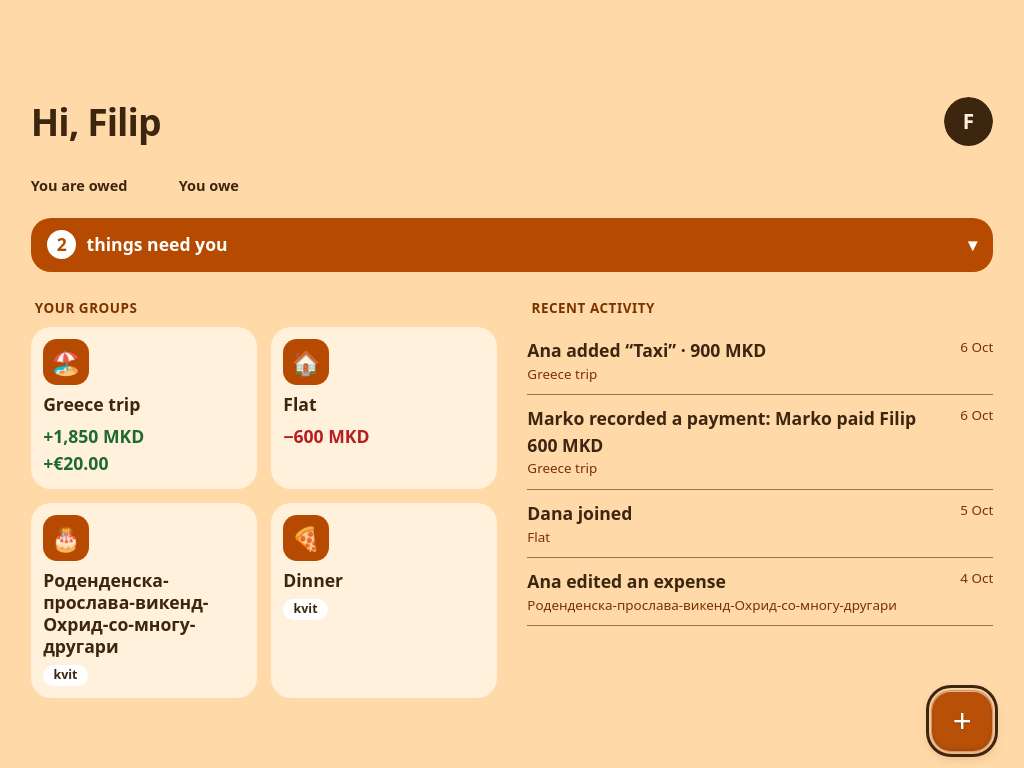
Scenario: personal spending from the home screen › focuses the amount after "+ New" saves a category, so typed digits land in it
The image size is (1024, 768).
Click the button named "Add" at (962, 721), box [931, 690, 993, 752]
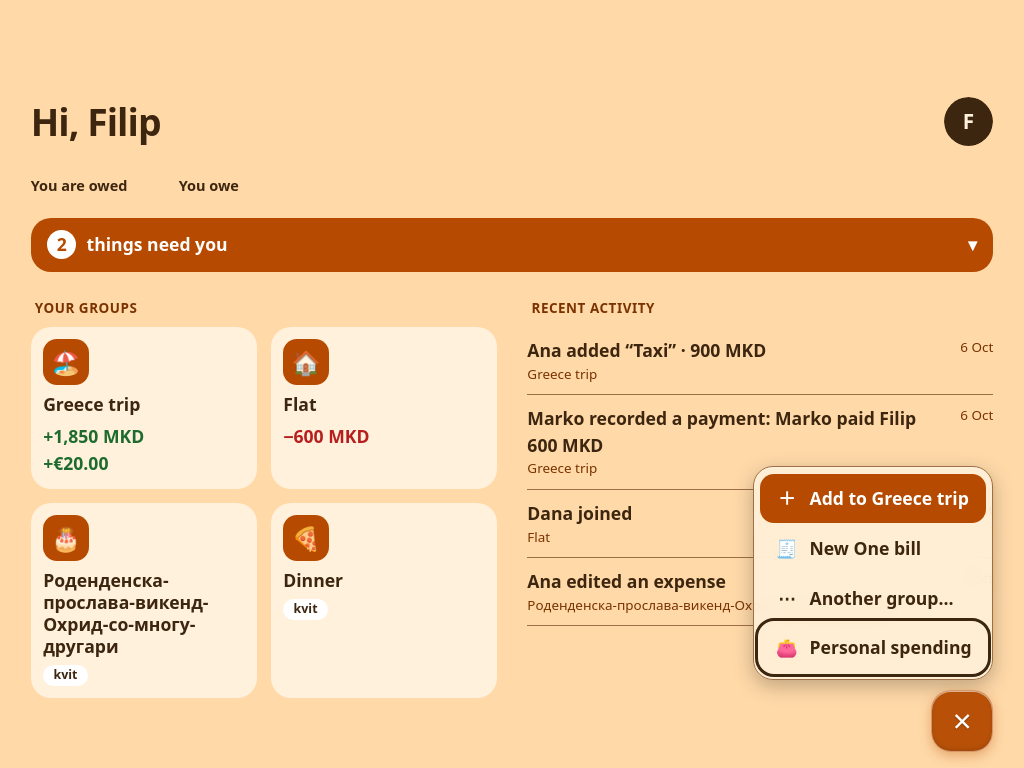
Click the menu item "👛 Personal spending" at (873, 648), box [760, 623, 986, 672]
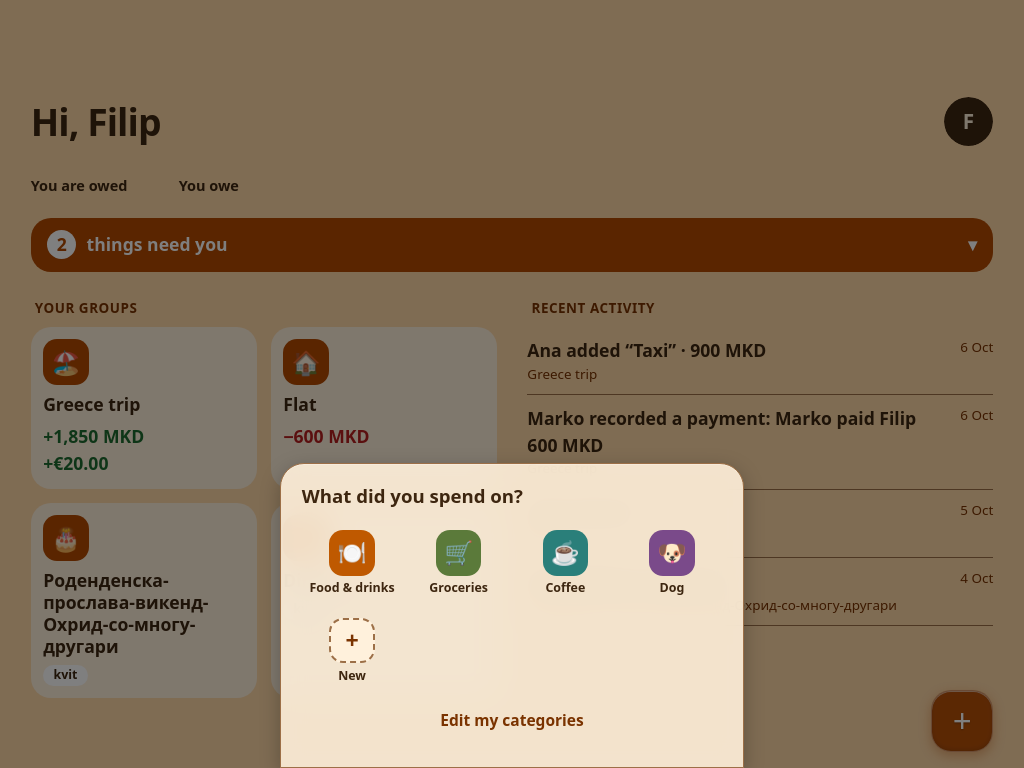
Click the button "+ New" at (352, 650), box [302, 612, 402, 689]
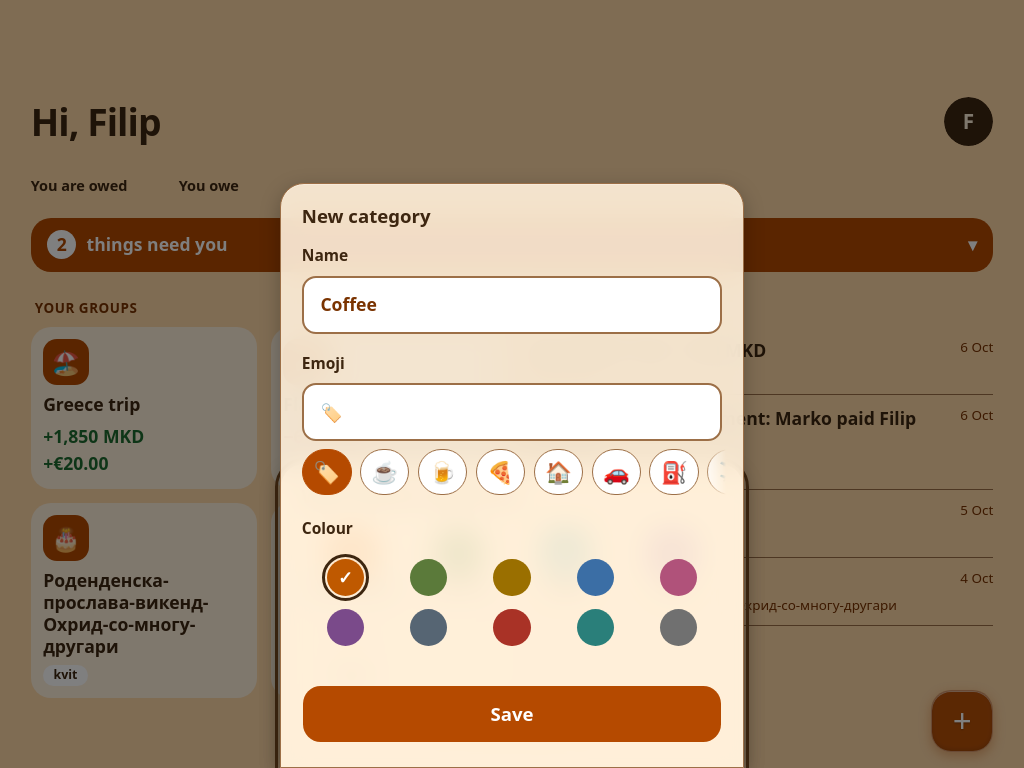
Type "Tea" into the field labelled "Name" at (512, 305), box [302, 276, 722, 334]
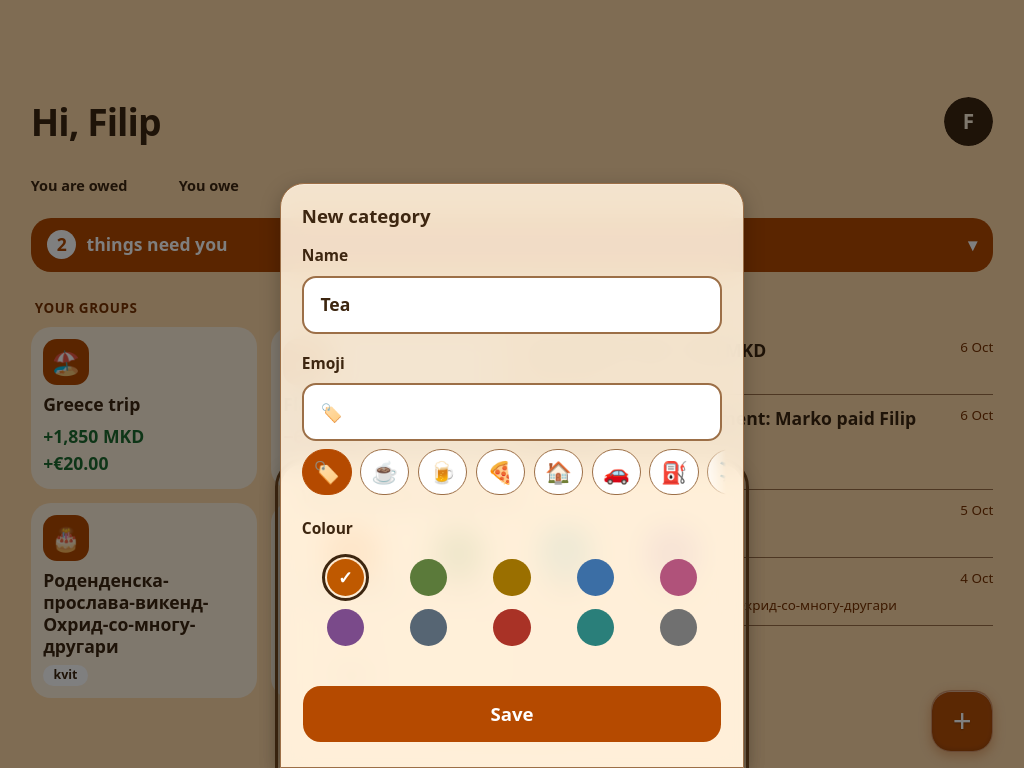
Click the button "Save" at (512, 714), box [302, 685, 722, 743]
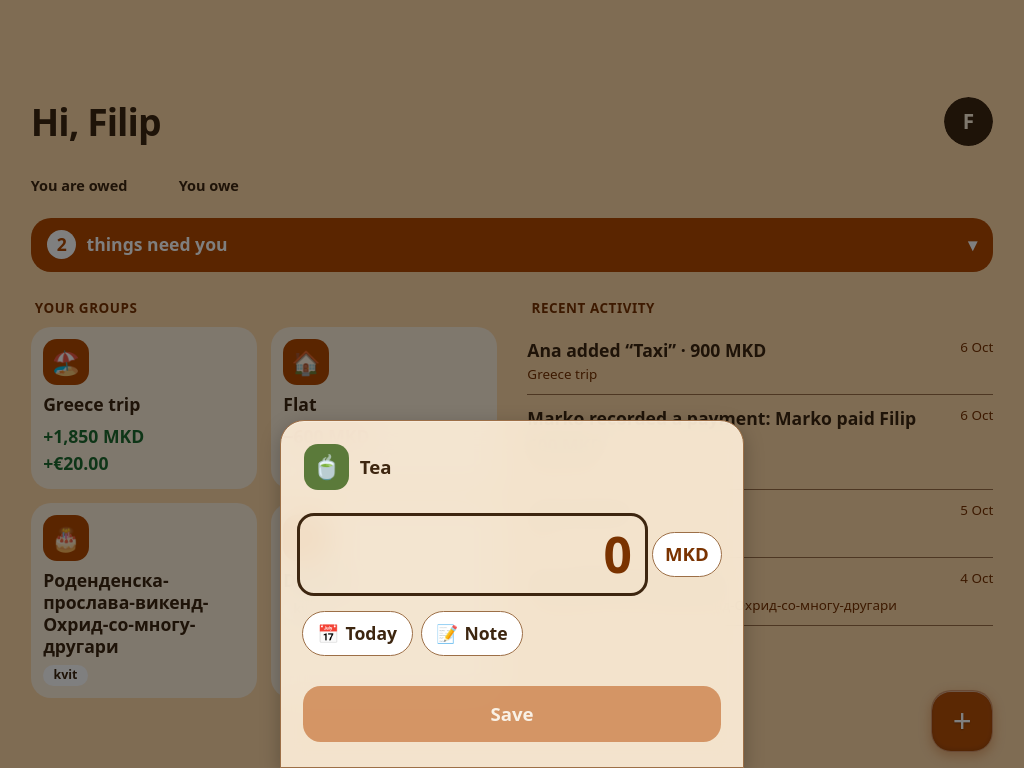
Now the heading "New category" is gone
